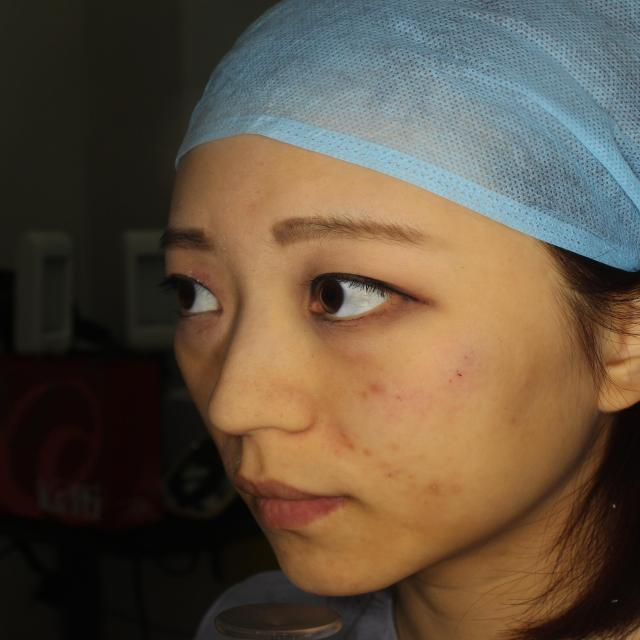acne: (335, 427, 365, 454), (363, 379, 390, 404), (426, 474, 445, 504)
